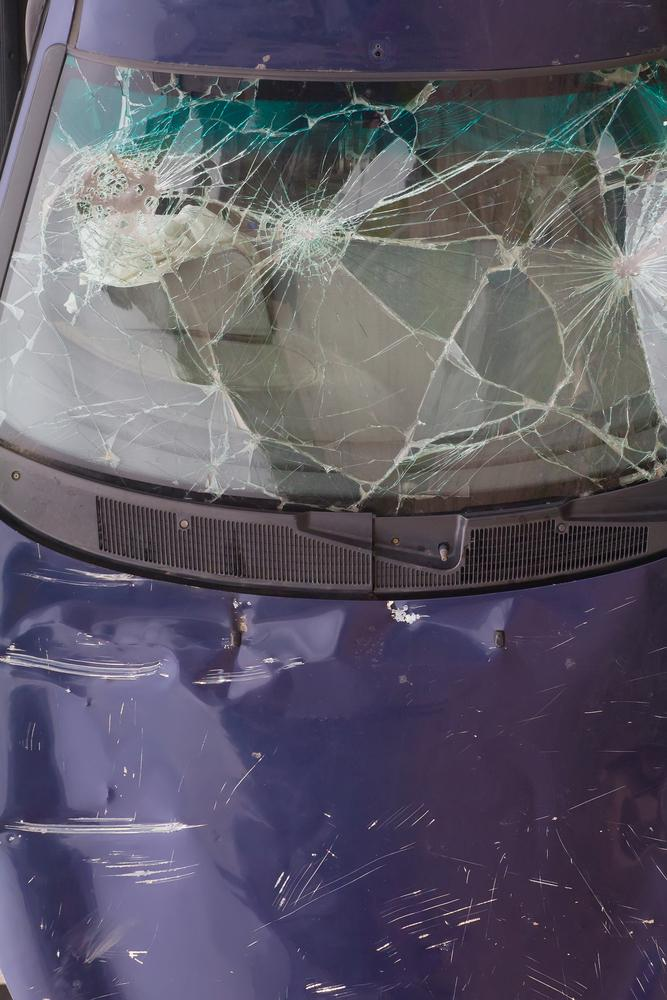dent: (0, 537, 509, 1000)
scratch: (269, 596, 667, 1000)
